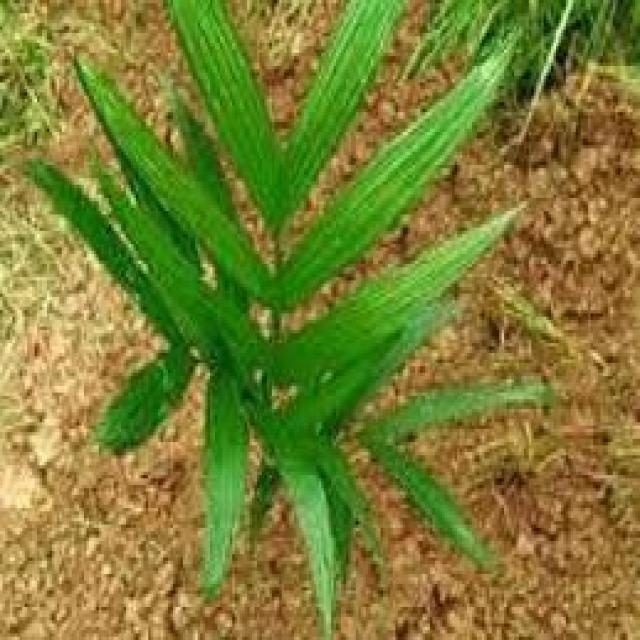Healthy_Leaf: (80, 116, 478, 543)
